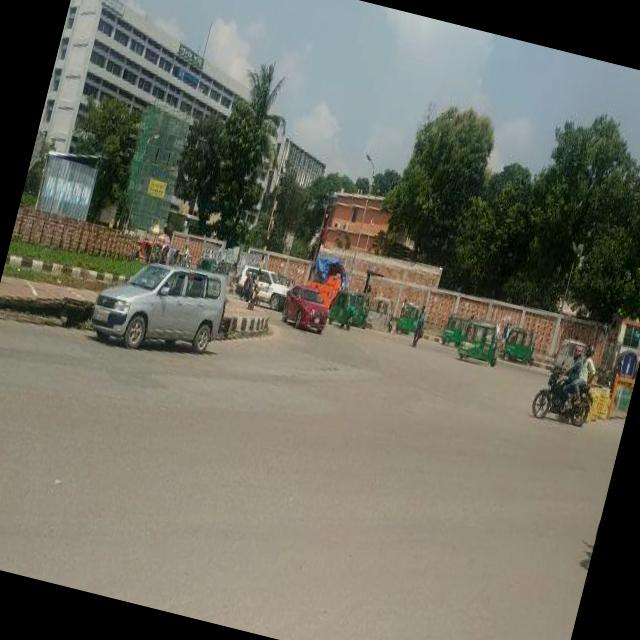car: (82, 248, 235, 368), (280, 280, 334, 335), (253, 268, 290, 312)
motorcycle: (528, 359, 598, 431), (456, 314, 506, 368), (500, 320, 542, 368), (324, 285, 358, 329), (394, 300, 431, 338), (364, 292, 398, 332), (436, 309, 466, 349), (610, 345, 635, 384), (348, 289, 373, 326), (237, 280, 264, 307), (214, 258, 238, 288), (195, 255, 218, 270)
